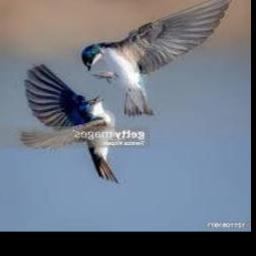Swallow: (81, 0, 234, 116), (21, 64, 118, 182)
